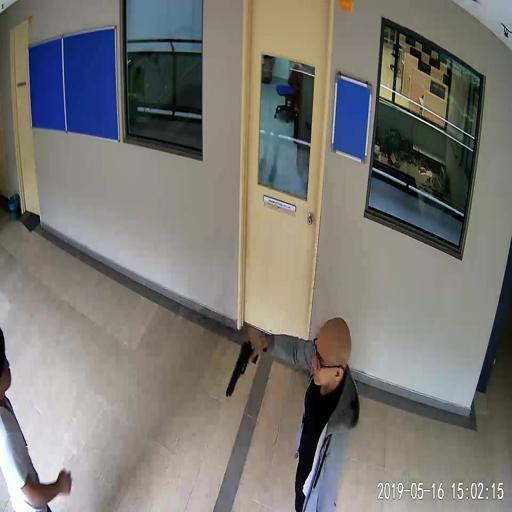pistol: (226, 336, 258, 395)
